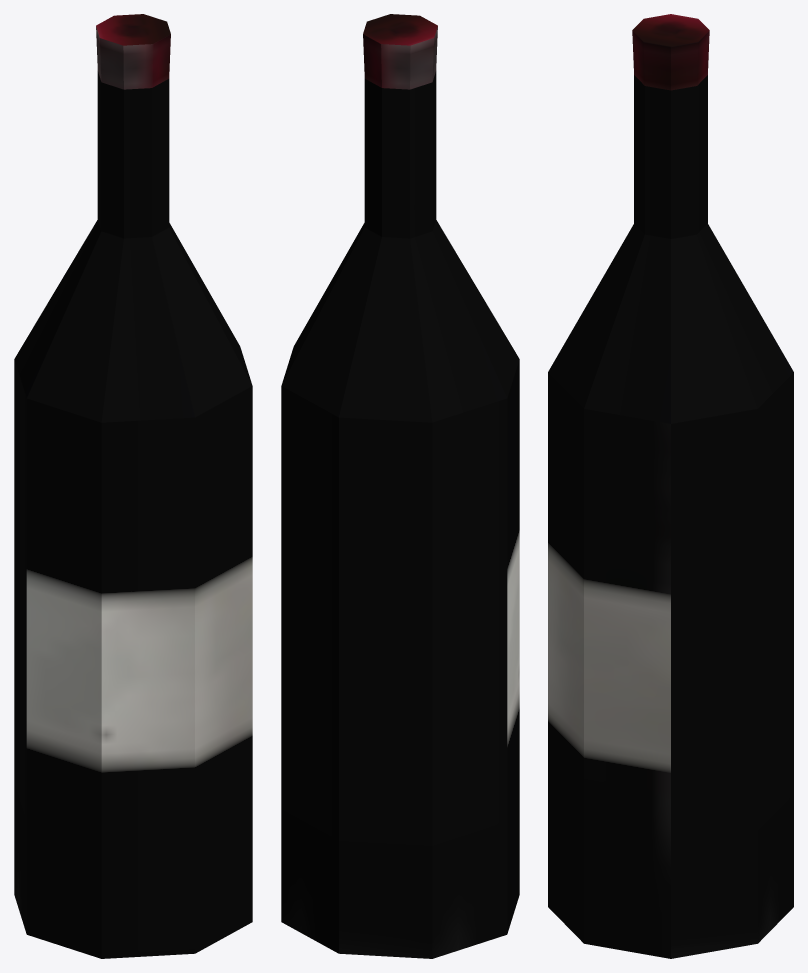
Rendered from bottle.glb.
The picture shows the model from 3 angles, left to right: view 1: azimuth 30°, elevation 25°; view 2: azimuth 150°, elevation 25°; view 3: azimuth 270°, elevation 25°; orthographic projection.
Visible parts, largest first — view 1: Cylinder; view 2: Cylinder; view 3: Cylinder.
Part boxes in pixels (x1,y1,x2,y2): Cylinder: (14, 14, 252, 958); Cylinder: (281, 14, 519, 958); Cylinder: (548, 14, 793, 958).
Bounding box in the file's own units: 0.075 × 0.295 × 0.075.
1 material, 1 textured.
